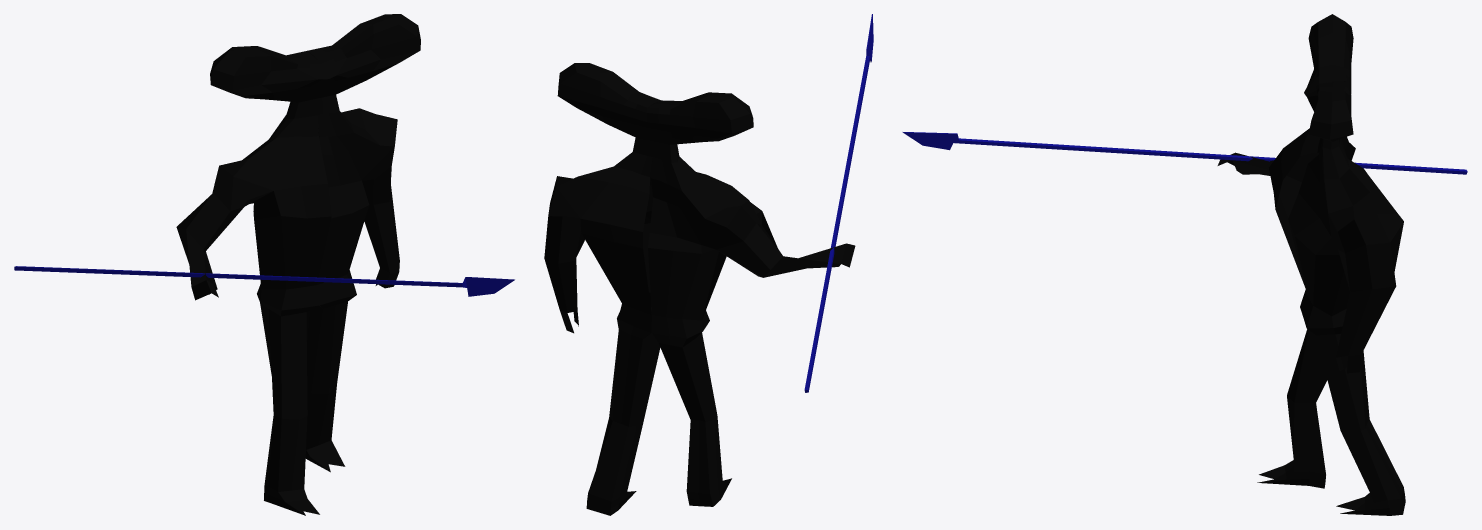
File: Spearman2a.obj
3 renders of one model, left to right at view 1: azimuth 30°, elevation 25°; view 2: azimuth 150°, elevation 25°; view 3: azimuth 270°, elevation 25°, orthographic. The views are drawn at different scales.
Parts seen in each view (by area): view 1: Cube; view 2: Cube; view 3: Cube.
Part boxes in pixels (box(x1,y1,x2,y2)): Cube: box(14, 14, 514, 515); Cube: box(544, 14, 873, 515); Cube: box(902, 14, 1467, 515).
Size of the model in its own units: 15.49 by 19.94 by 22.71.
